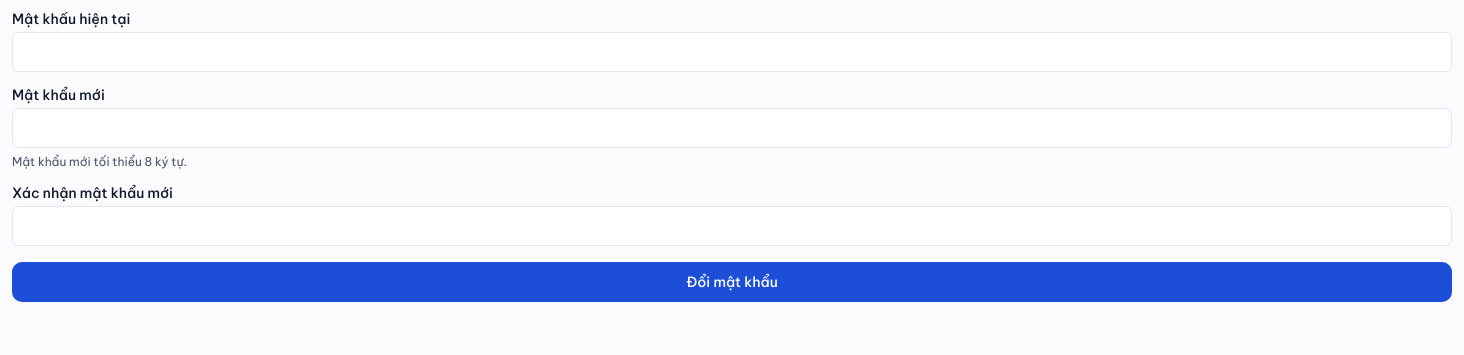
Test: ChangePasswordForm › surfaces an ApiError from the backend
Type "wrongpass" into the password field labelled "Mật khẩu hiện tại" at coordinates (732, 52), box 12,32 -> 1452,72
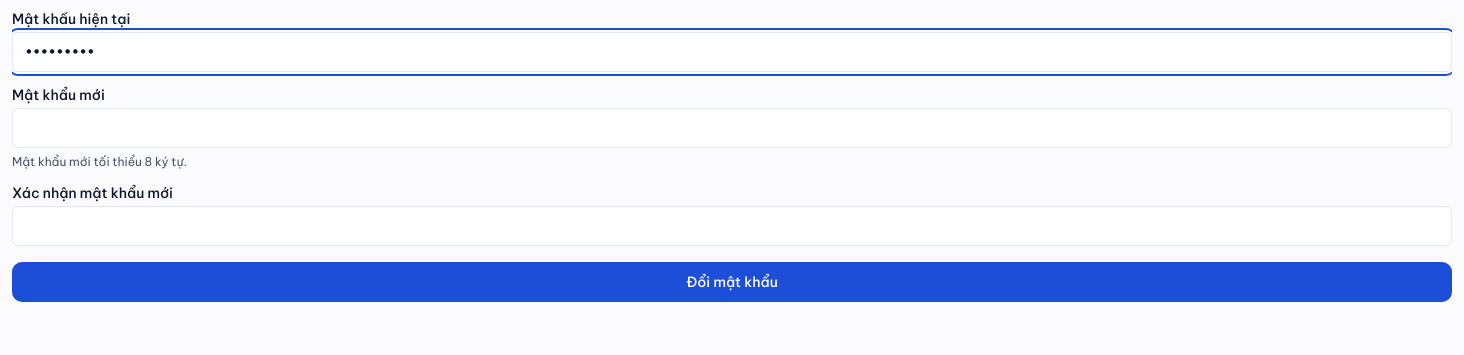
Type "NewPass2024" into the password field labelled "Mật khẩu mới" at coordinates (732, 128), box 12,108 -> 1452,148
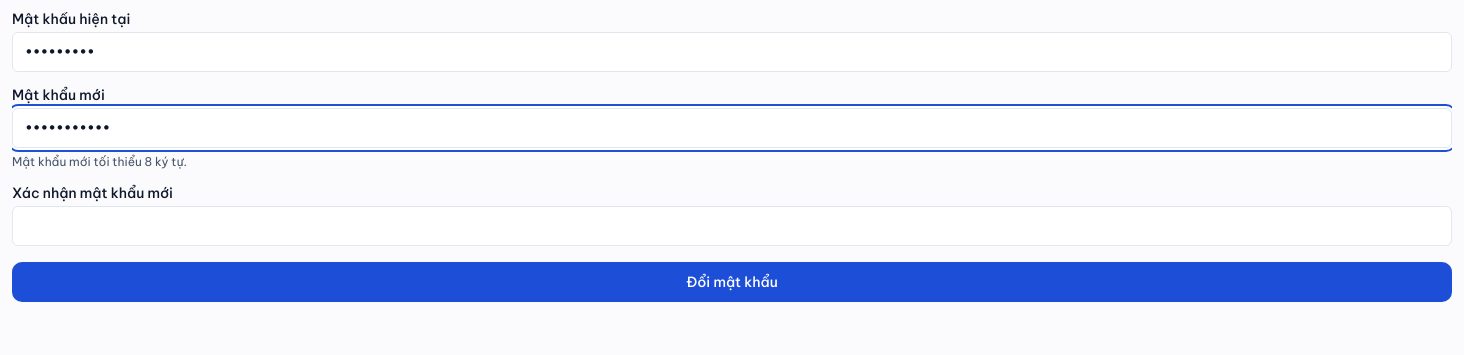
Type "NewPass2024" into the password field labelled "Xác nhận mật khẩu mới" at coordinates (732, 226), box 12,206 -> 1452,246
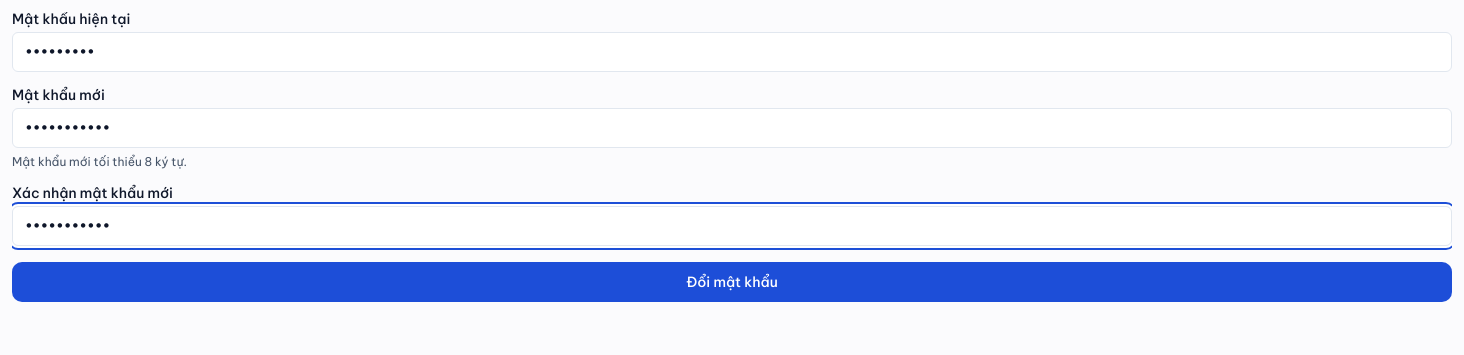
Click the button "Đổi mật khẩu" at coordinates (732, 282), box 12,262 -> 1452,302
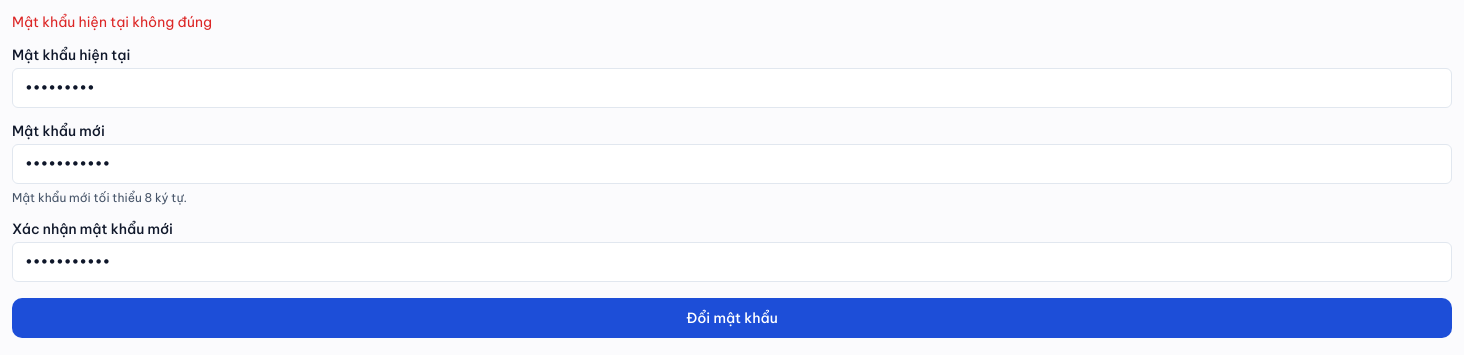
Expected: the text "Mật khẩu hiện tại không đúng" is shown, 12,13 -> 212,31
